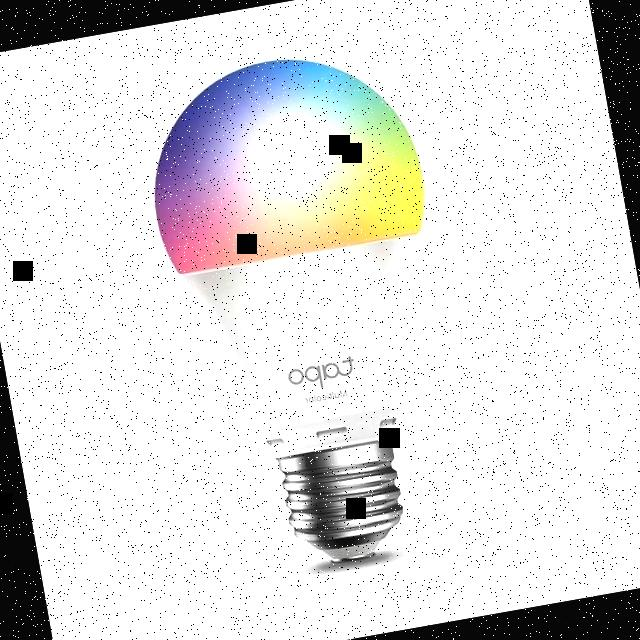light_bulb: (122, 26, 496, 592)
